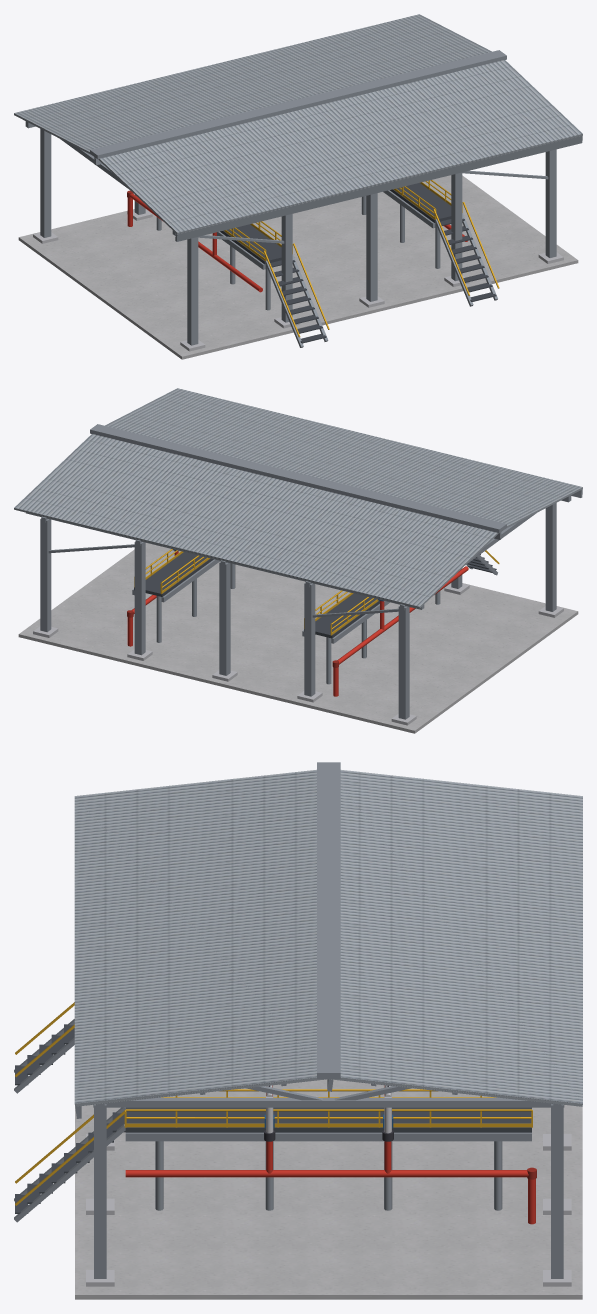
The model's file is cobertura.glb.
The picture shows the model from 3 angles, top to bottom: view 1: azimuth 30°, elevation 25°; view 2: azimuth 150°, elevation 25°; view 3: azimuth 270°, elevation 25°; orthographic projection. The views are drawn at different scales.
Size of the model in its own units: 43.4 by 15.09 by 33.61.
Materials: 11 (2 with a texture image).
